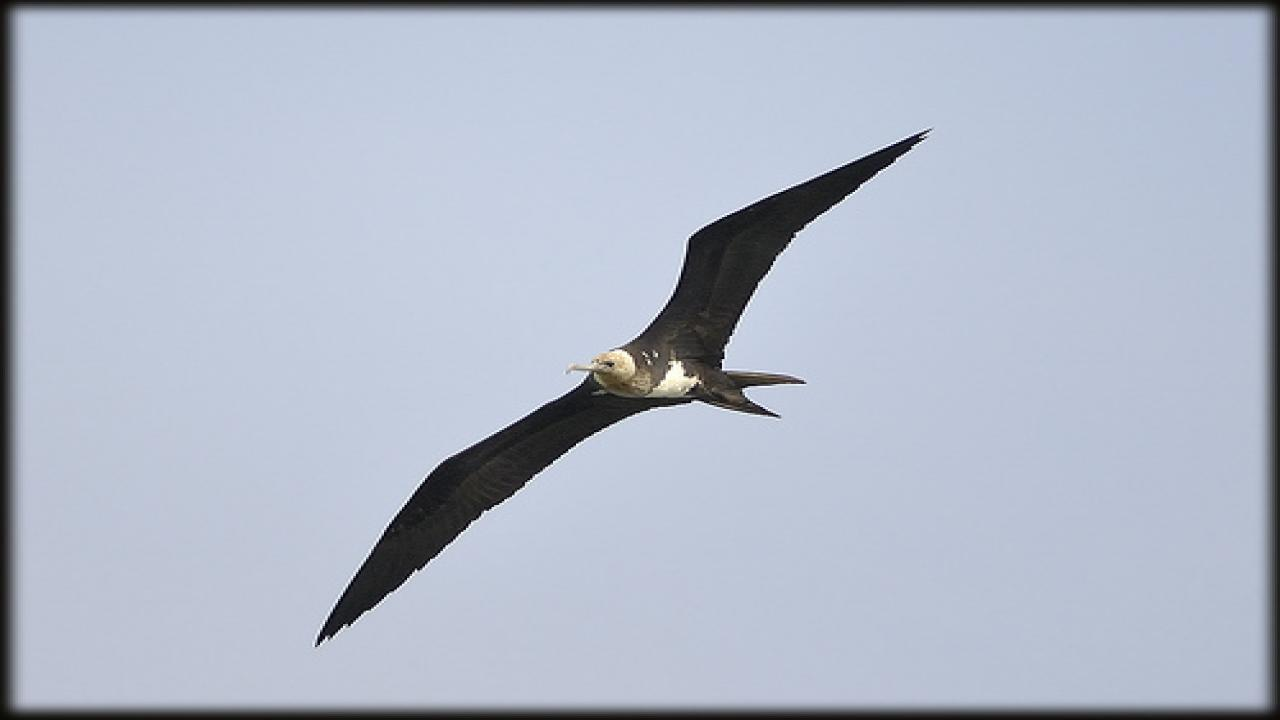Bird: (308, 124, 940, 654)
